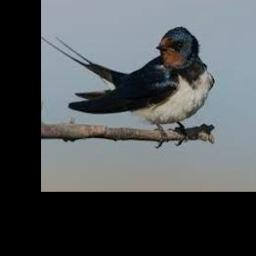Swallow: (41, 27, 213, 144)
